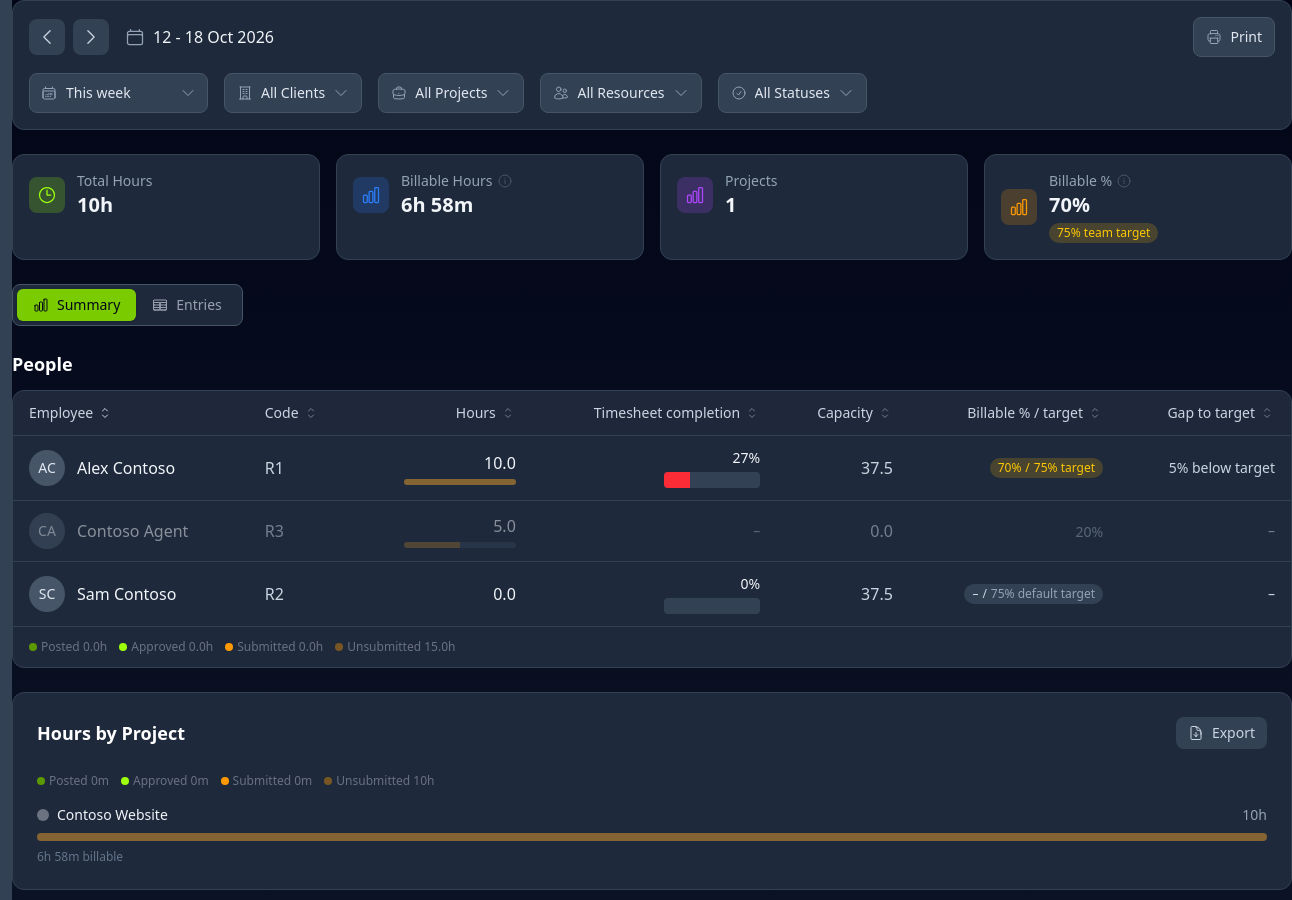
Test: ReportsPanel › shows the Team page's people table with capacity for the period
Expected: the text "37.5" in the row of "R1" is shown, [861,457,893,479]
Select "This month" in the dropdown named "Period": (118, 93) [29,73,208,113]
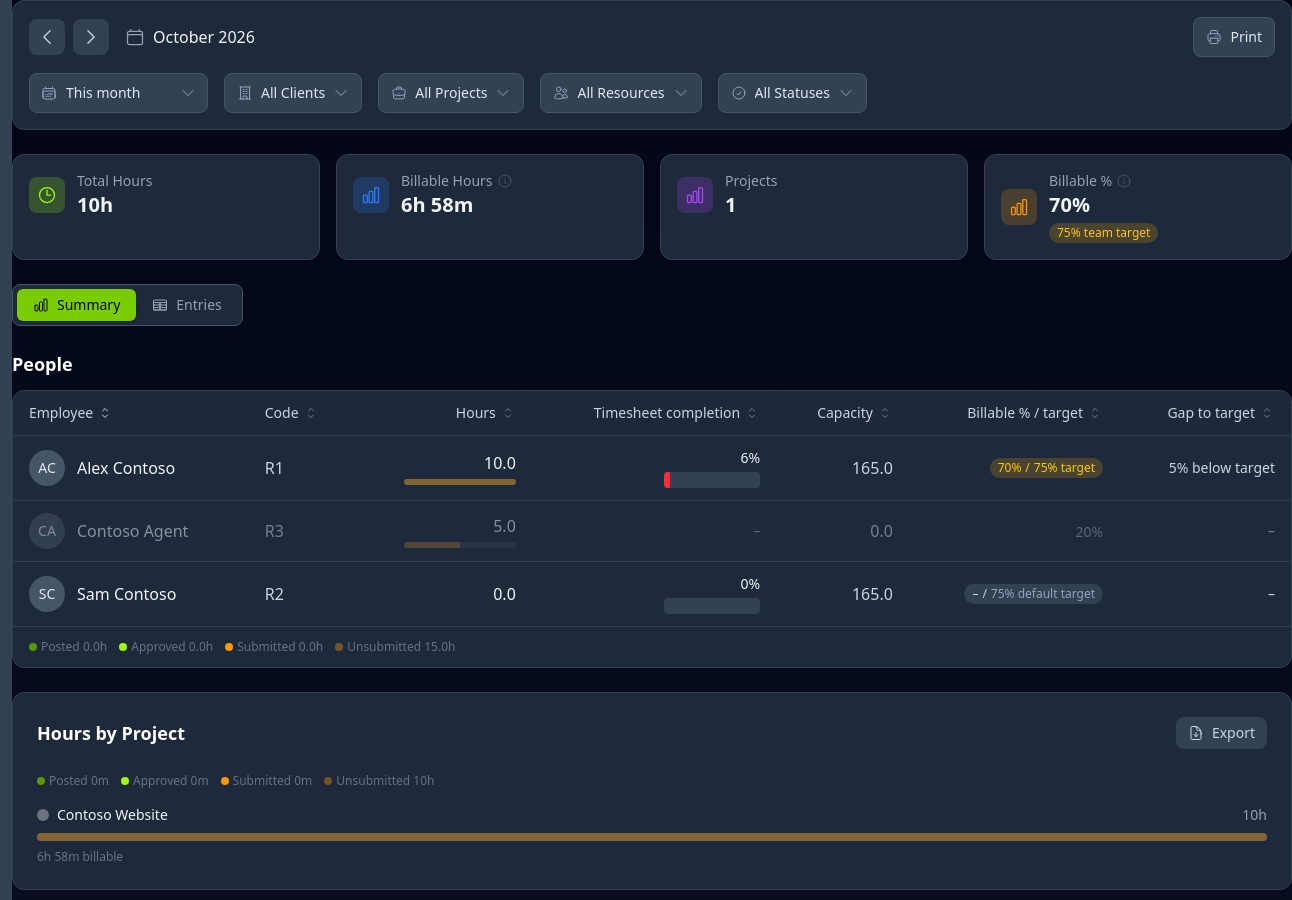
Now the text "Alex Contoso" shows "165.0", box [852,457,893,479]
